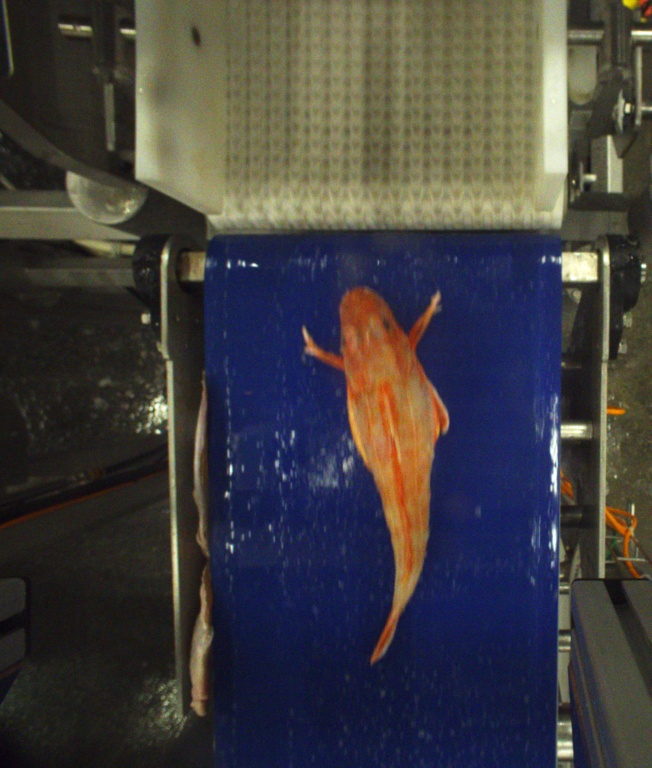GUU: (304, 285, 450, 659)
